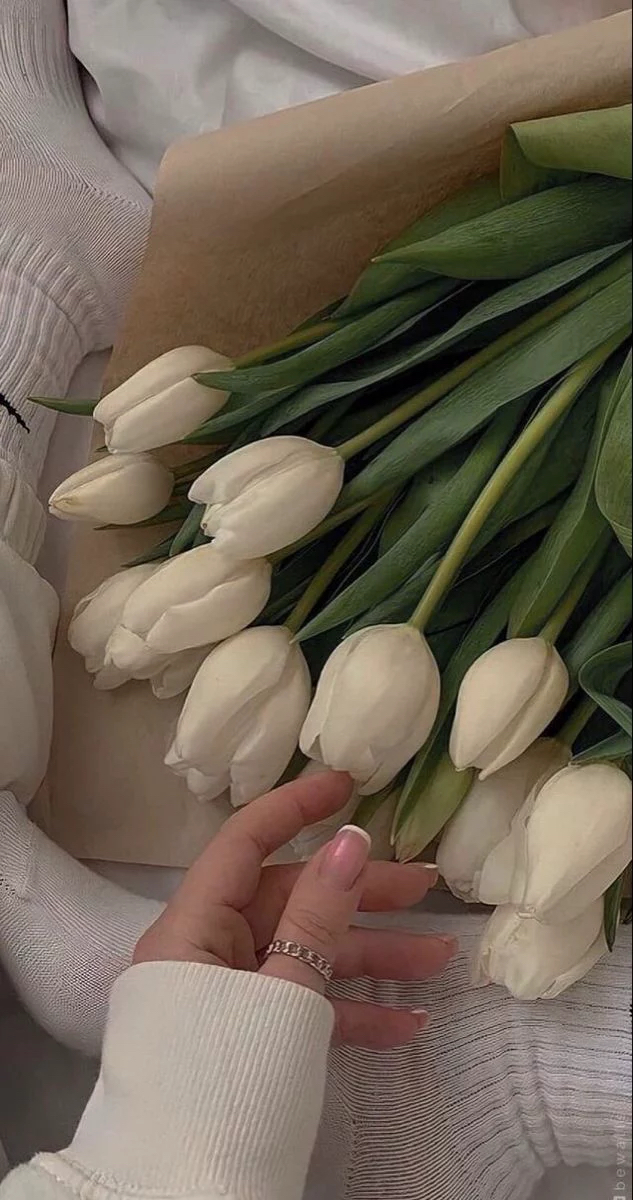tulip: (147, 612, 321, 816), (295, 618, 445, 799), (102, 540, 281, 678), (505, 755, 632, 931), (183, 429, 351, 561), (444, 632, 574, 782), (88, 340, 240, 458), (469, 891, 622, 999), (430, 758, 542, 902), (38, 452, 178, 531), (68, 558, 140, 694)
